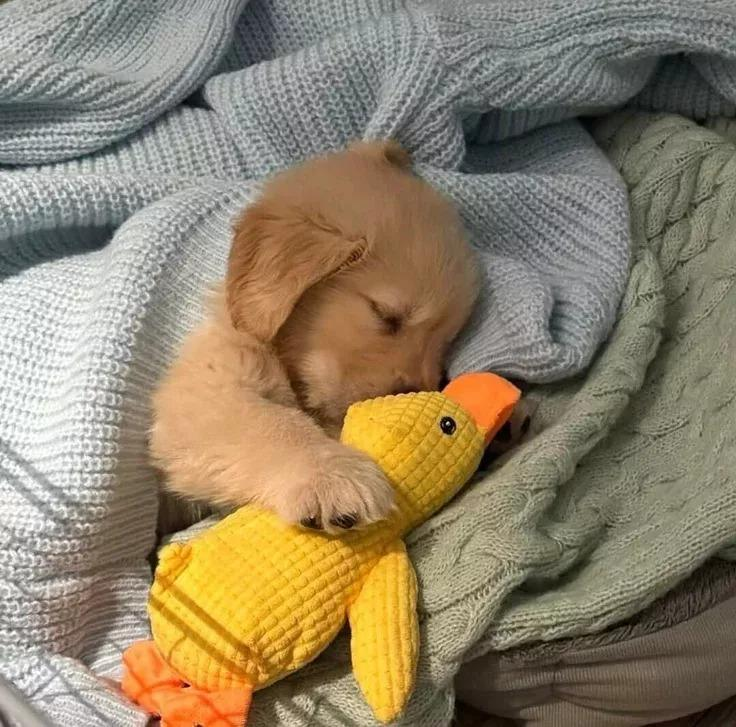puppy-dog: (142, 136, 484, 532)
